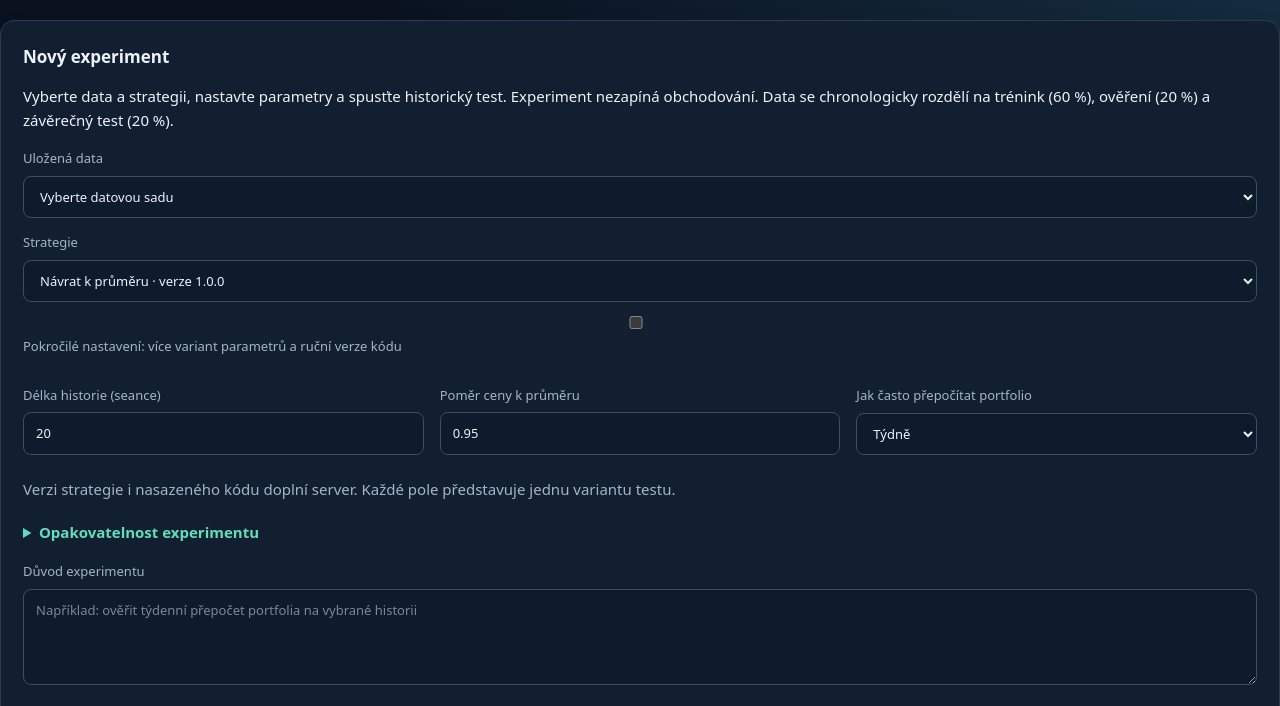
Scenario: uses named selections and correct parameters without requiring SHA or JSON
This screenshot has width=1280, height=706.
Select "Sledování trendu · verze 1.0.0" in the dropdown labelled "Strategie" at (640, 281), box [23, 260, 1257, 302]
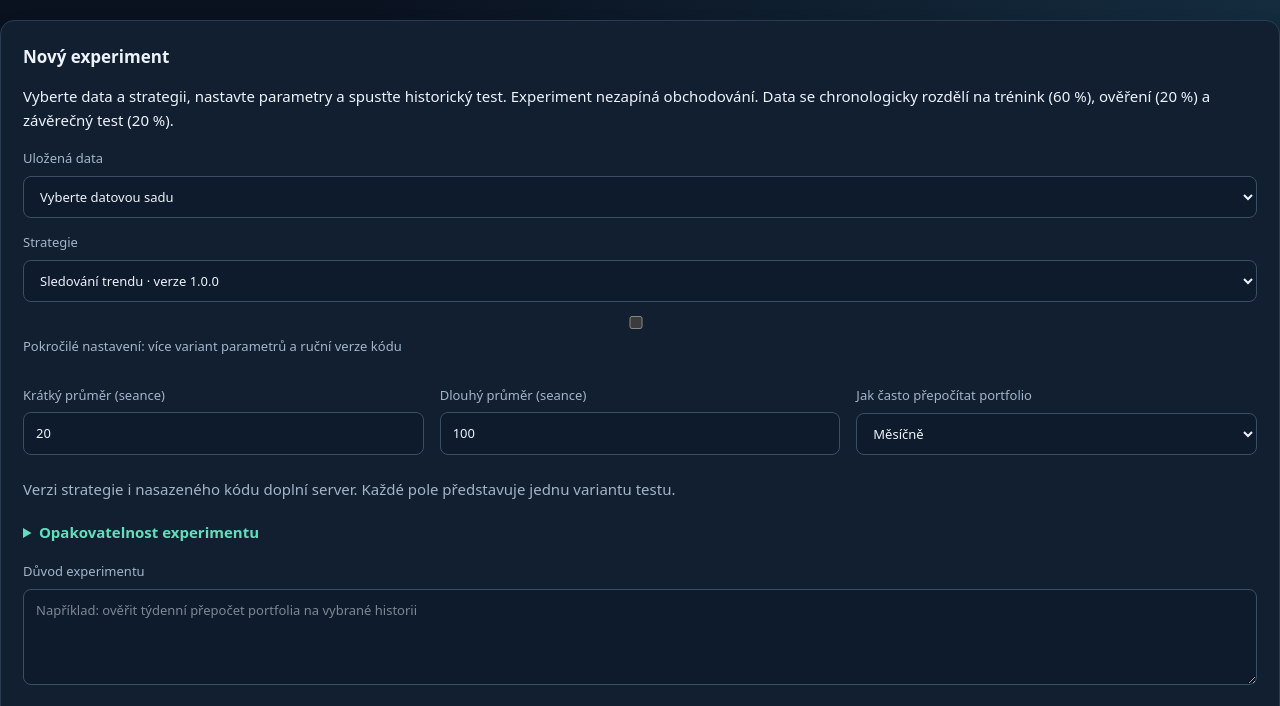
Expected: the number field labelled "Dlouhý průměr (seance)" holds "100", [440, 412, 840, 455]
Expected: the label labelled "Poměr ceny k průměru" is gone
